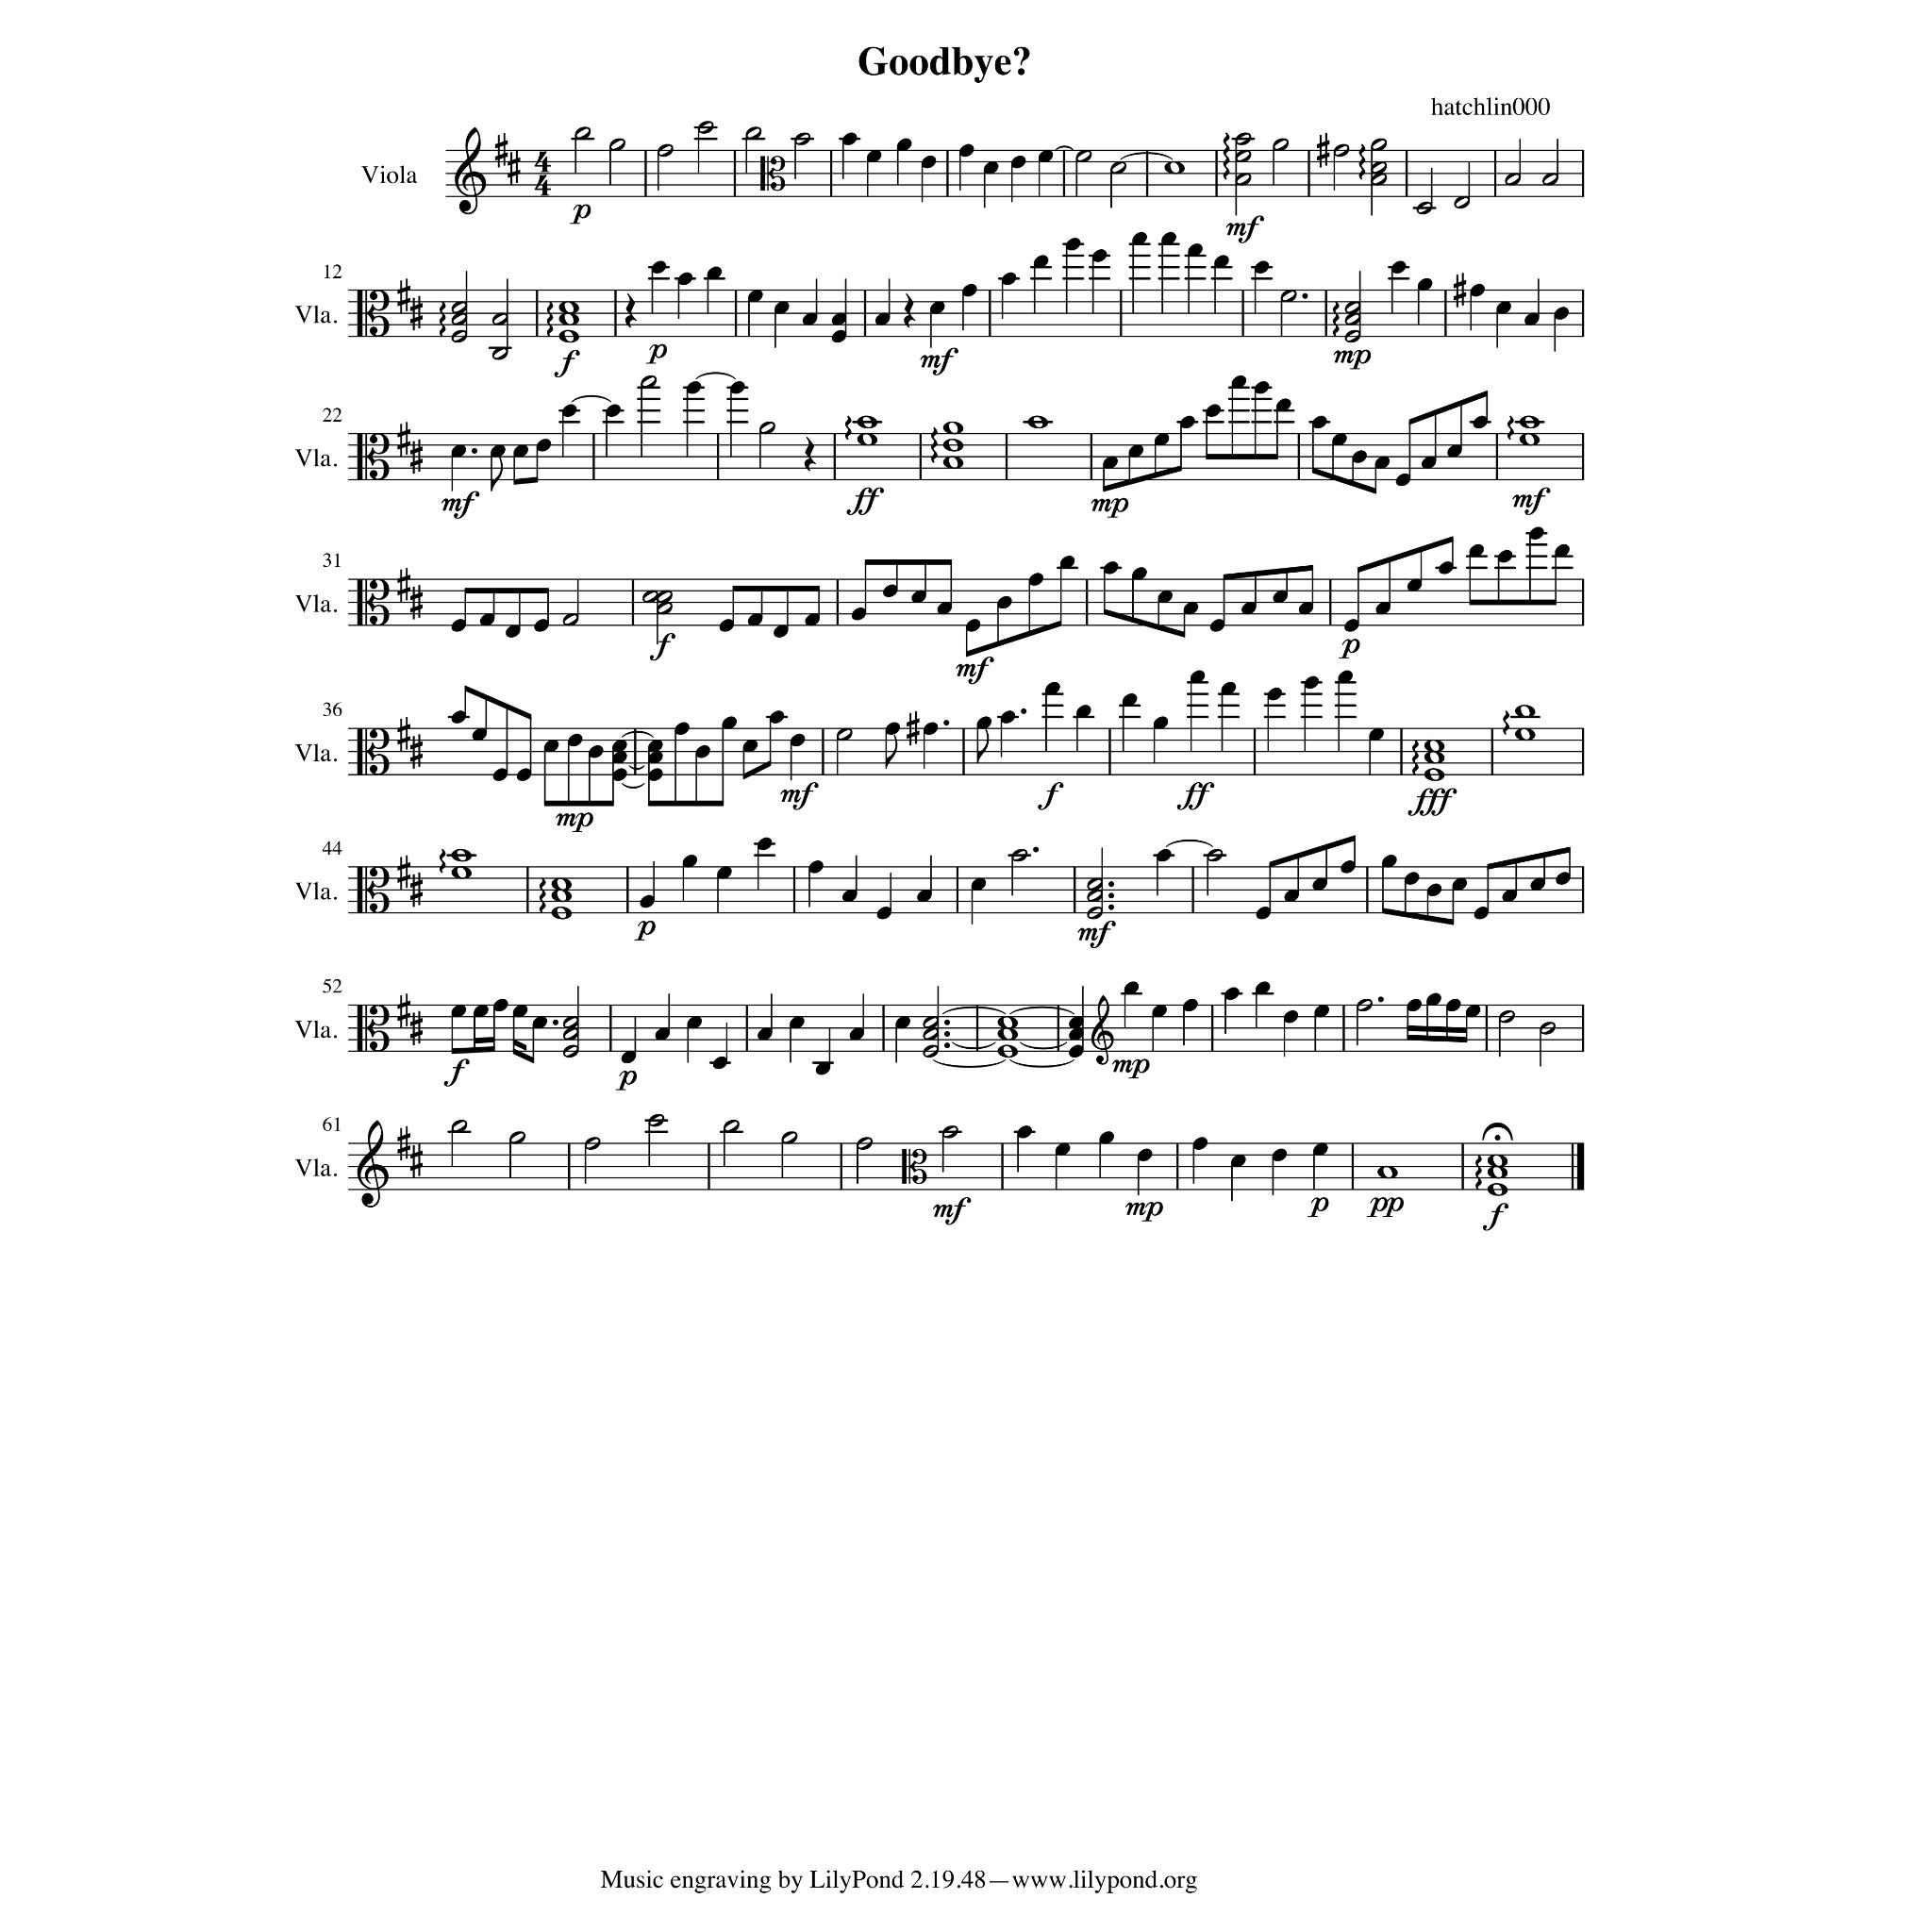flag8thDown: (491, 457, 504, 492), (885, 734, 898, 770), (977, 729, 989, 763)
gClef: (454, 126, 486, 215), (357, 1120, 389, 1208)
noteheadBlack: (706, 266, 723, 281), (1351, 449, 1368, 464), (1468, 543, 1485, 558), (515, 768, 532, 783), (1313, 1004, 1330, 1019), (1151, 1004, 1168, 1019), (1464, 1004, 1481, 1019), (511, 1004, 528, 1019), (1098, 1130, 1115, 1145), (896, 138, 911, 153), (1417, 277, 1432, 292), (1028, 572, 1043, 587), (1555, 543, 1570, 558), (611, 768, 626, 783), (647, 768, 662, 783), (492, 768, 508, 783), (640, 894, 655, 909), (1426, 992, 1441, 1008), (451, 1004, 466, 1019), (474, 1004, 489, 1019), (958, 144, 975, 158), (1009, 156, 1026, 169), (1160, 232, 1177, 245), (1187, 243, 1204, 257), (1000, 273, 1017, 286), (1213, 256, 1230, 269), (1032, 256, 1049, 269), (1091, 249, 1108, 262), (1064, 238, 1081, 251), (1553, 308, 1570, 321), (830, 330, 847, 343), (830, 313, 847, 326), (874, 313, 891, 326), (928, 301, 945, 314), (1253, 381, 1270, 394), (1230, 375, 1247, 389), (1153, 433, 1170, 446), (1394, 474, 1411, 487), (1374, 457, 1391, 470), (1472, 416, 1489, 429), (1421, 457, 1438, 470), (604, 405, 621, 418), (560, 405, 577, 418), (685, 381, 702, 394), (489, 444, 506, 458), (1343, 619, 1360, 632), (1272, 591, 1289, 604), (1058, 556, 1075, 569), (1157, 591, 1174, 604), (1130, 567, 1147, 580), (1528, 527, 1545, 541), (1496, 550, 1513, 563), (1438, 561, 1455, 575), (1406, 579, 1423, 592), (532, 619, 549, 632), (964, 619, 981, 632), (936, 602, 953, 615), (804, 613, 821, 626), (996, 596, 1013, 609), (1266, 688, 1283, 701), (1189, 670, 1206, 683), (1121, 693, 1138, 707), (1075, 705, 1092, 718), (975, 717, 992, 730), (1043, 682, 1060, 695), (1368, 728, 1385, 741), (587, 745, 604, 758), (566, 734, 583, 747), (789, 734, 806, 747), (768, 710, 785, 724), (721, 717, 738, 730), (694, 745, 711, 758), (674, 723, 691, 736), (741, 740, 758, 753), (1283, 890, 1300, 903), (1255, 907, 1272, 920), (1340, 860, 1357, 874), (1311, 877, 1328, 891), (1555, 872, 1572, 885), (1451, 877, 1468, 891), (681, 855, 698, 868), (970, 877, 987, 891), (875, 907, 892, 920), (808, 860, 824, 874), (1223, 987, 1240, 1000), (1255, 982, 1272, 995), (1068, 1016, 1085, 1029), (1068, 1027, 1085, 1041), (1068, 1044, 1085, 1058), (1123, 982, 1140, 995), (1406, 999, 1423, 1012), (711, 1057, 728, 1070), (894, 1016, 911, 1029), (789, 1016, 806, 1029), (757, 1027, 774, 1041), (1136, 1149, 1153, 1162), (841, 133, 857, 146), (921, 156, 936, 169), (1038, 150, 1053, 163), (983, 161, 998, 175), (866, 150, 881, 163), (1254, 261, 1269, 275), (1132, 232, 1147, 245), (1524, 313, 1540, 326), (1496, 301, 1511, 314), (1470, 284, 1485, 297), (1391, 261, 1406, 275), (677, 273, 692, 286), (747, 290, 762, 303), (651, 261, 666, 275), (802, 313, 817, 326), (962, 284, 977, 297), (774, 301, 789, 314), (1275, 399, 1291, 412), (1311, 416, 1326, 429), (1128, 444, 1143, 458), (1103, 457, 1118, 470), (1206, 405, 1221, 418), (1179, 416, 1194, 429), (1332, 433, 1347, 446), (1447, 444, 1462, 458), (730, 381, 745, 394), (451, 444, 466, 458), (513, 444, 528, 458), (536, 439, 551, 452), (1241, 602, 1257, 615), (1209, 619, 1224, 632), (1183, 602, 1198, 615), (1298, 602, 1313, 615), (1104, 561, 1119, 575), (1375, 602, 1391, 615), (774, 625, 789, 638), (747, 613, 762, 626), (719, 619, 734, 632), (451, 619, 466, 632), (506, 625, 521, 638), (479, 613, 494, 626), (882, 585, 897, 598), (911, 591, 926, 604), (851, 608, 866, 621), (1153, 717, 1168, 730), (1221, 682, 1236, 695), (1000, 710, 1015, 724), (1338, 670, 1353, 683), (1304, 676, 1319, 690), (611, 751, 626, 764), (611, 740, 626, 753), (543, 740, 558, 753), (647, 740, 662, 753), (647, 751, 662, 764), (451, 710, 466, 724), (472, 728, 487, 741), (923, 723, 938, 736), (885, 723, 900, 736), (1382, 855, 1397, 868), (1157, 849, 1172, 862), (1530, 877, 1545, 891), (1502, 890, 1517, 903), (1404, 872, 1419, 885), (1474, 907, 1489, 920), (1426, 884, 1441, 897), (757, 838, 772, 851), (717, 866, 732, 879), (917, 890, 932, 903), (841, 890, 857, 903), (1183, 999, 1198, 1012), (1283, 1010, 1298, 1024), (1445, 999, 1460, 1012), (621, 1051, 636, 1064), (687, 1016, 702, 1029), (532, 1016, 547, 1029), (655, 1027, 670, 1041), (492, 999, 508, 1012), (849, 1027, 864, 1041), (815, 1062, 830, 1075), (1230, 1155, 1245, 1168), (1272, 1149, 1287, 1162), (1313, 1142, 1328, 1156), (1055, 1142, 1070, 1156), (1192, 1137, 1207, 1150), (1017, 1125, 1032, 1139)
noteheadHalf: (1272, 138, 1289, 153), (1370, 138, 1387, 153), (608, 138, 625, 153), (758, 421, 775, 436), (1075, 150, 1092, 163), (1235, 133, 1252, 146), (1235, 150, 1252, 163), (1235, 173, 1252, 186), (1333, 144, 1350, 158), (1109, 161, 1126, 175), (1541, 173, 1558, 186), (1504, 173, 1521, 186), (1370, 161, 1387, 175), (1370, 173, 1387, 186), (1416, 202, 1433, 215), (1453, 196, 1470, 209), (744, 127, 761, 141), (697, 121, 714, 134), (793, 133, 810, 146), (574, 127, 591, 141), (657, 144, 674, 158), (1344, 301, 1361, 314), (1344, 313, 1361, 326), (1344, 330, 1361, 343), (1280, 290, 1297, 303), (451, 313, 468, 326), (451, 330, 468, 343), (451, 301, 468, 314), (491, 313, 508, 326), (491, 347, 508, 360), (640, 375, 657, 389), (656, 591, 673, 604), (641, 591, 658, 604), (656, 602, 673, 615), (562, 613, 579, 626), (836, 728, 853, 741), (1086, 890, 1103, 903), (1086, 877, 1103, 891), (1206, 849, 1223, 862), (1086, 907, 1103, 920), (1010, 849, 1027, 862), (1539, 1022, 1556, 1035), (1498, 1010, 1515, 1024), (1356, 999, 1373, 1012), (562, 1016, 579, 1029), (562, 1027, 579, 1041), (562, 1044, 579, 1058), (923, 1016, 940, 1029), (923, 1027, 940, 1041), (923, 1044, 940, 1058), (647, 1114, 664, 1127), (723, 1120, 740, 1133), (451, 1120, 468, 1133), (508, 1131, 525, 1144), (584, 1137, 601, 1150), (941, 1125, 958, 1139), (781, 1131, 798, 1144), (856, 1137, 873, 1150)
noteheadWhole: (941, 421, 964, 436), (941, 438, 964, 453), (1423, 768, 1445, 783), (996, 1015, 1019, 1030), (1519, 432, 1540, 447), (857, 432, 877, 447), (551, 877, 572, 892), (551, 906, 572, 921), (941, 457, 964, 470), (1026, 416, 1049, 429), (1513, 705, 1536, 718), (1513, 728, 1536, 741), (1423, 740, 1445, 753), (1423, 751, 1445, 764), (996, 1027, 1019, 1041), (996, 1045, 1019, 1058), (1375, 1166, 1398, 1179), (1164, 161, 1185, 175), (558, 301, 579, 314), (558, 313, 579, 326), (558, 330, 579, 343), (1519, 416, 1540, 429), (857, 416, 877, 429), (451, 866, 472, 879), (551, 890, 572, 903), (451, 849, 472, 862), (1487, 1183, 1507, 1196), (1487, 1166, 1507, 1179), (1487, 1155, 1507, 1168)
restQuarter: (625, 293, 638, 329), (804, 437, 817, 473), (904, 293, 915, 329)
